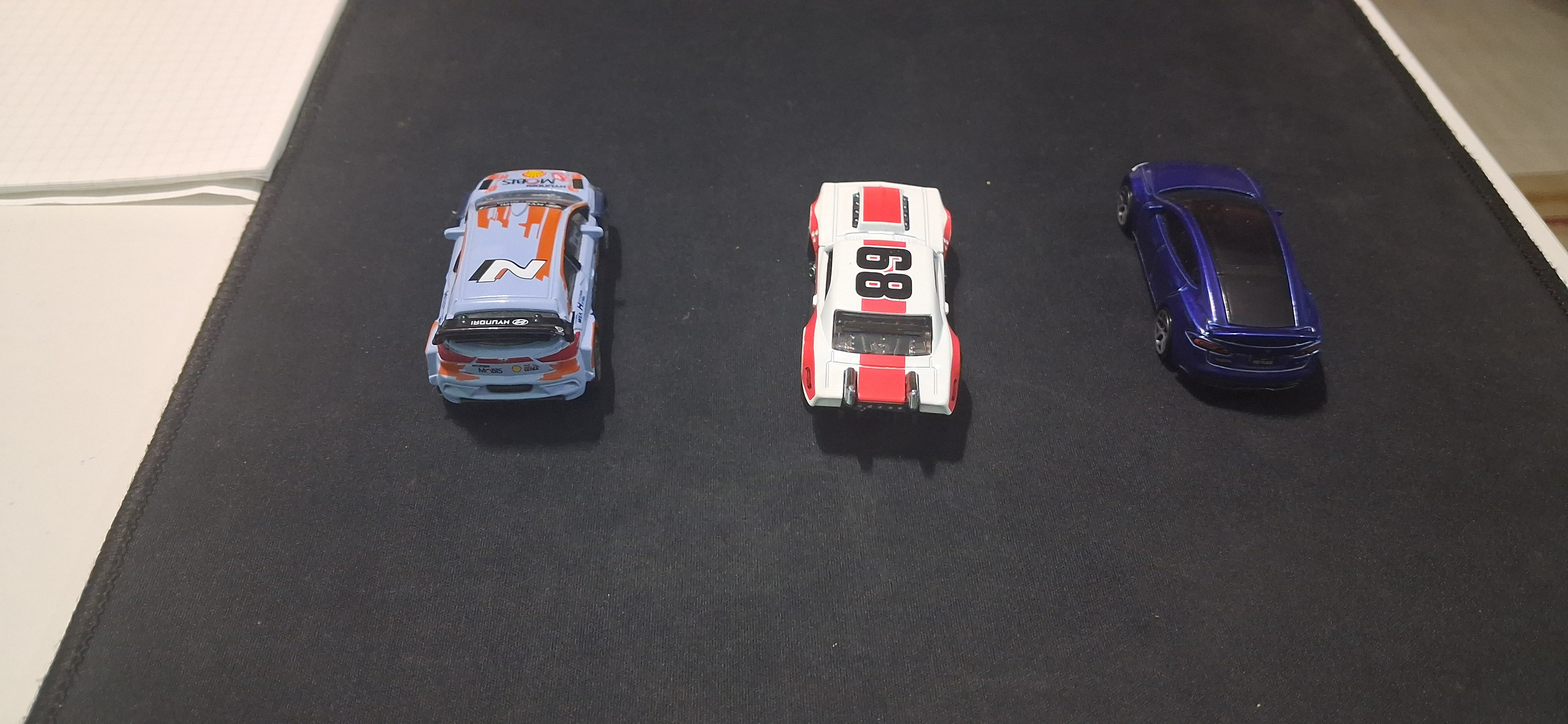Camaro: (763, 142, 982, 511)
Hyundai_I20_WRC: (414, 129, 650, 455)
Tesla_Model_S_Plaid: (1073, 136, 1363, 423)
